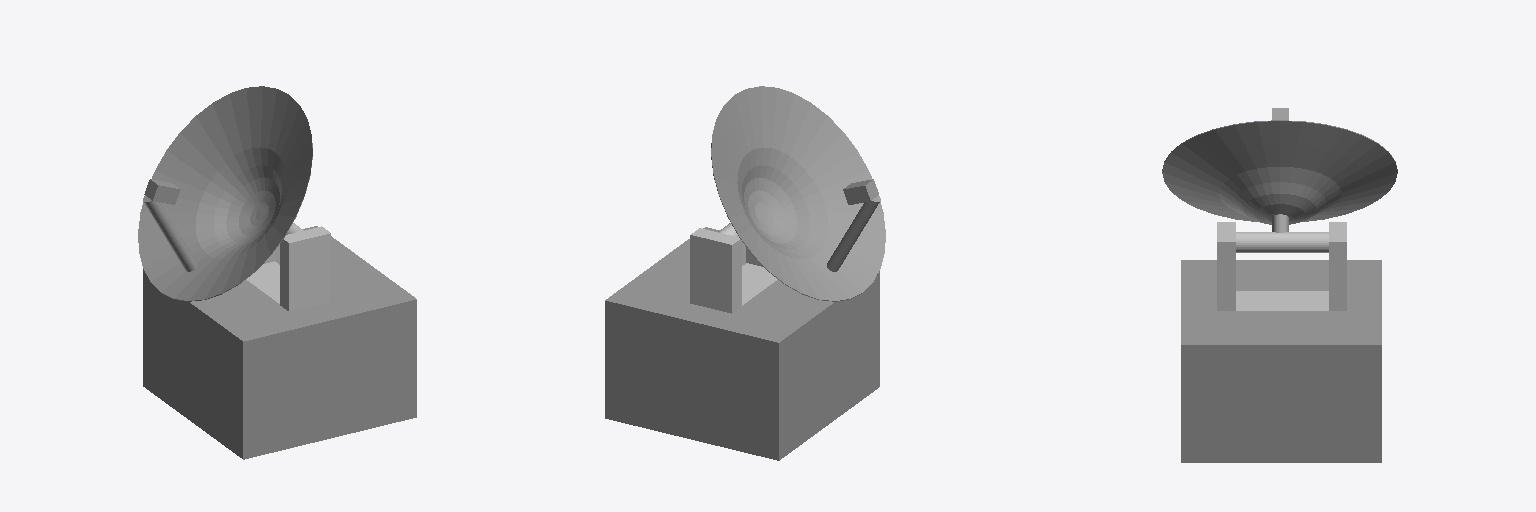
Rendered from comSatBase.obj.
The picture shows the model from 3 angles: view 1: azimuth 30°, elevation 25°; view 2: azimuth 150°, elevation 25°; view 3: azimuth 270°, elevation 25°; orthographic projection.
Parts seen in each view (by area): view 1: Cube_Base, Dish, Base_DishBase; view 2: Cube_Base, Dish, Base_DishBase; view 3: Cube_Base, Dish, Base_DishBase.
Part boxes in pixels (left/top/right/bottom): Cube_Base: left=143, top=226, right=416, bottom=459; Dish: left=138, top=86, right=312, bottom=301; Base_DishBase: left=246, top=223, right=330, bottom=311; Cube_Base: left=605, top=227, right=879, bottom=460; Dish: left=711, top=86, right=885, bottom=301; Base_DishBase: left=690, top=223, right=777, bottom=313; Cube_Base: left=1181, top=260, right=1381, bottom=462; Dish: left=1162, top=108, right=1397, bottom=232; Base_DishBase: left=1217, top=222, right=1346, bottom=310.
Bounding box in the file's own units: 3.97 × 5.17 × 3.62.